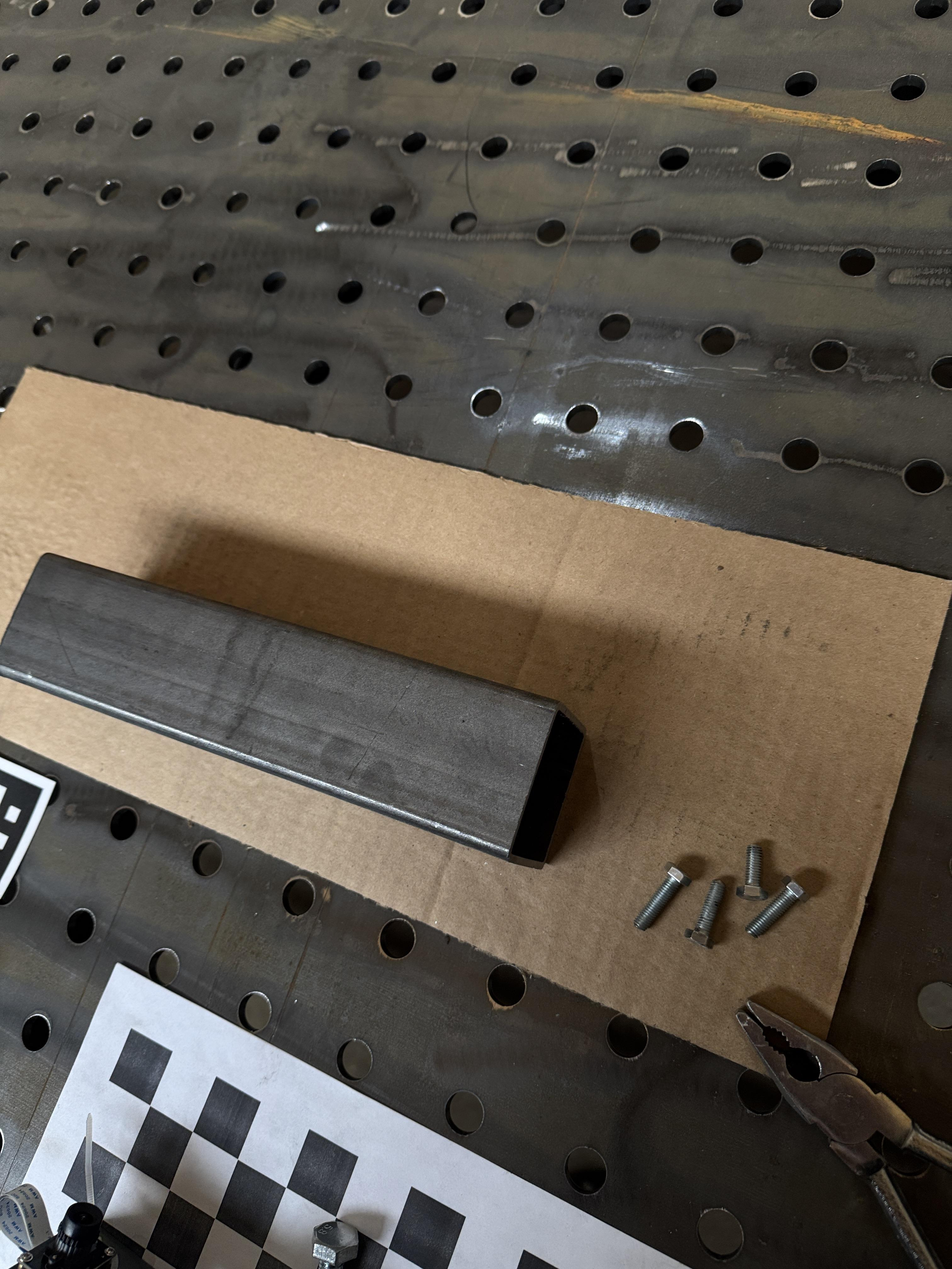detail: (0, 552, 588, 871)
